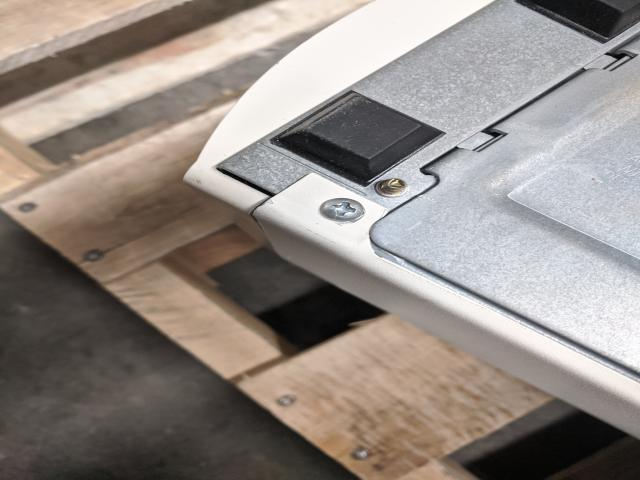CRS: (319, 196, 366, 224)
